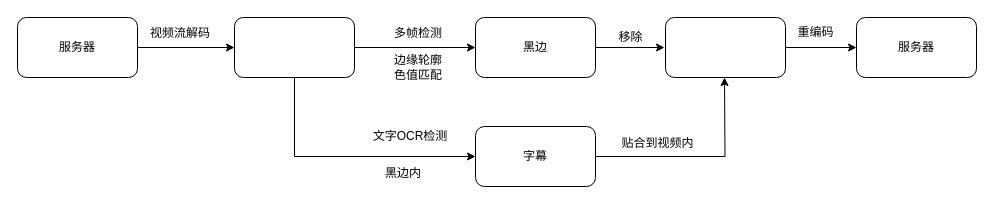
Image size: 994x204. Some labels were removed from this diagram. The shapes that lost their labels are listed below. From the top down, each one's centre as x and y in pixels, then its label:
the point at 294,47: 图片
the point at 725,47: 新图片
